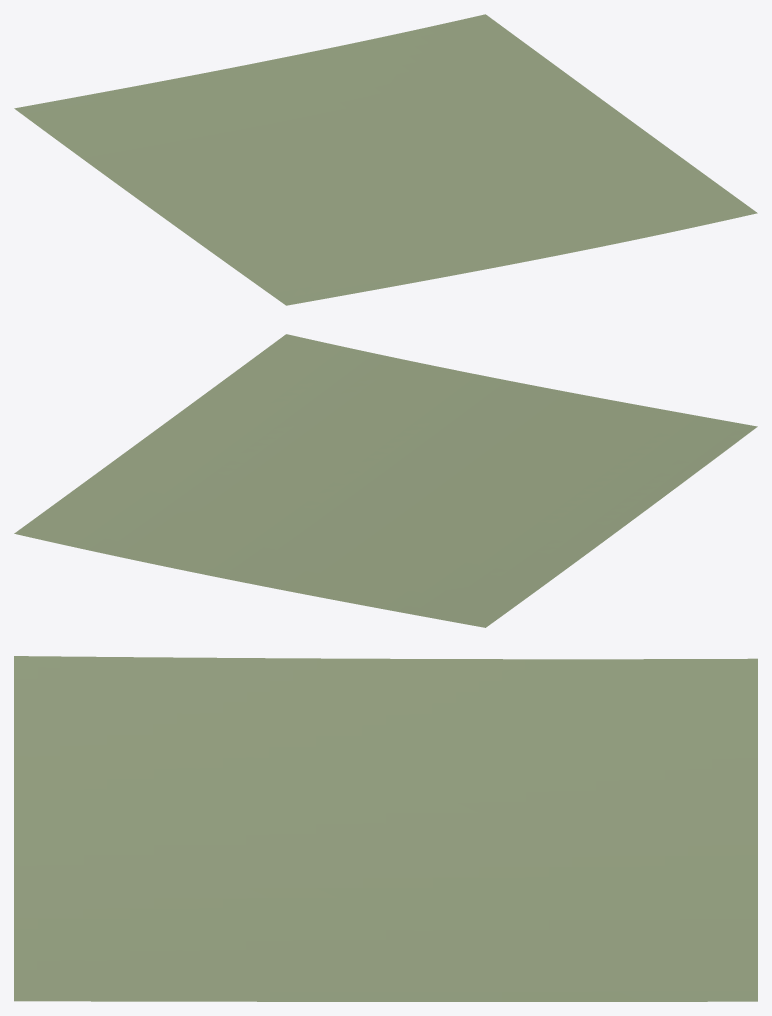
Rendered from desert-2-22.glb.
The picture shows the model from 3 angles, top to bottom: view 1: azimuth 30°, elevation 25°; view 2: azimuth 150°, elevation 25°; view 3: azimuth 270°, elevation 25°; orthographic projection. The views are drawn at different scales.
Parts seen in each view (by area): view 1: desert-2-22; view 2: desert-2-22; view 3: desert-2-22.
Part boxes in pixels (left/top/right/bottom): desert-2-22: left=14, top=14, right=757, bottom=305; desert-2-22: left=14, top=334, right=757, bottom=627; desert-2-22: left=14, top=656, right=757, bottom=1001.
Size of the model in its own units: 512 by 23.95 by 512.
